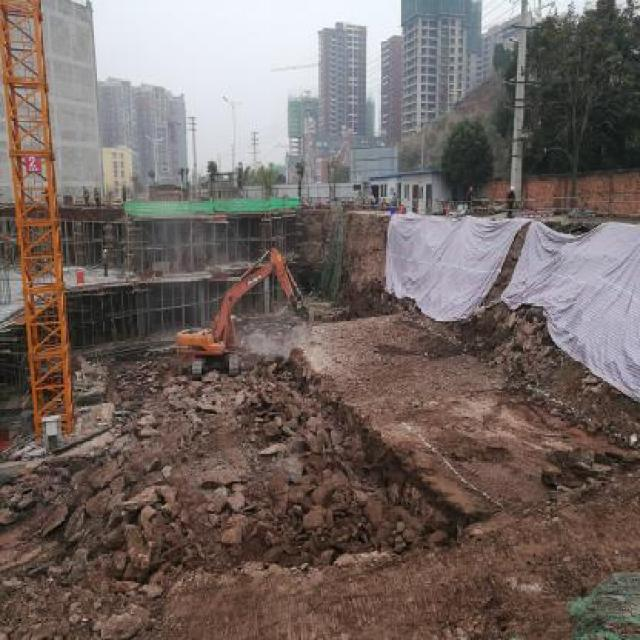Excavator: (173, 249, 307, 380)
